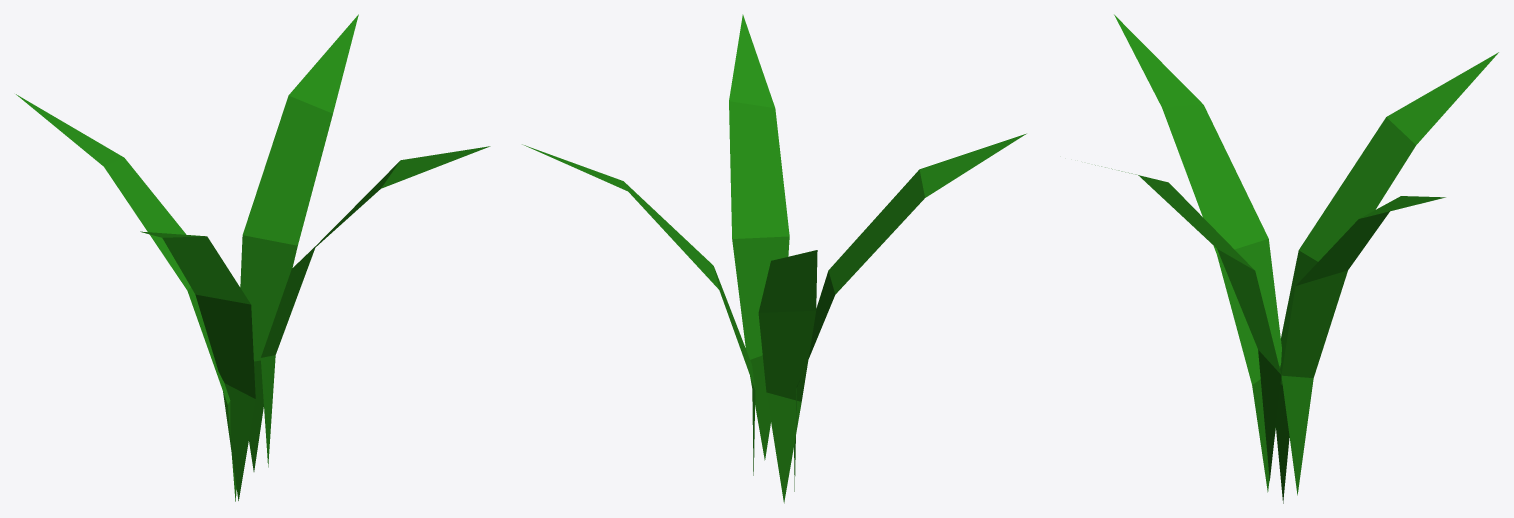
Rendered from mesh_Grass.glb.
The picture shows the model from 3 angles, left to right: view 1: azimuth 30°, elevation 25°; view 2: azimuth 150°, elevation 25°; view 3: azimuth 270°, elevation 25°; orthographic projection. The views are drawn at different scales.
Visible parts, largest first — view 1: Grass; view 2: Grass; view 3: Grass.
Part boxes in pixels (x1,y1,x2,y2): Grass: (16,14,490,501); Grass: (522,14,1026,503); Grass: (1095,14,1498,503).
Bounding box in the file's own units: 0.374 × 0.3795 × 0.3581.
